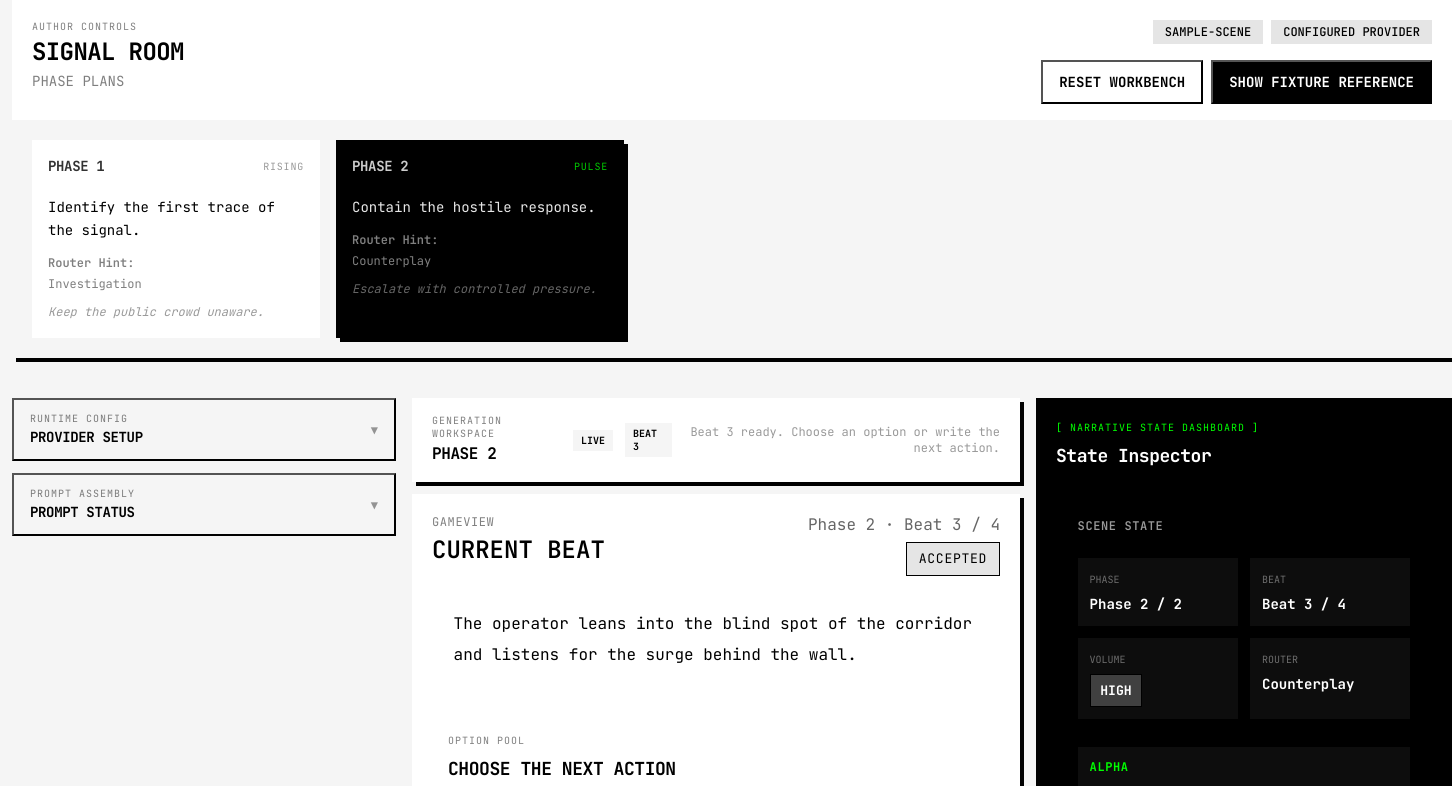
Scenario: PlayWorkbench › surfaces reset write failures and preserves the previous truthful local continuity state
The image size is (1452, 786).
Check: the text "The operator leans into the blind spot of the corridor and listens for the surge behind the wall." is shown, box left=454, top=613, right=982, bottom=665
Click the button "Reset Workbench".
click(1122, 82)  # box left=1041, top=60, right=1203, bottom=104
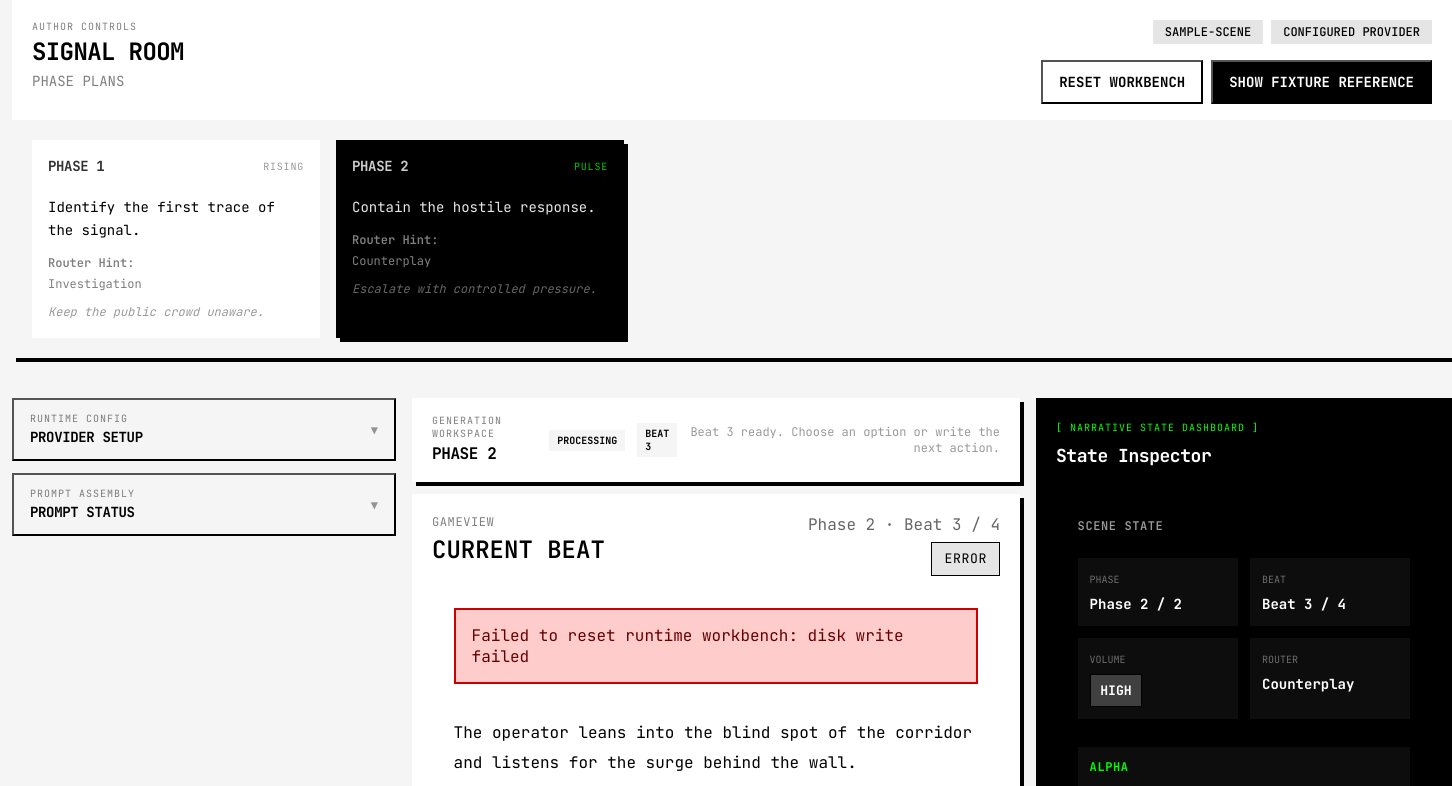
Check: the text "The operator leans into the blind spot of the corridor and listens for the surge behind the wall." is shown, box left=454, top=722, right=982, bottom=773
Check: the text "Failed to reset runtime workbench: disk write failed" is shown, box left=454, top=608, right=978, bottom=684
